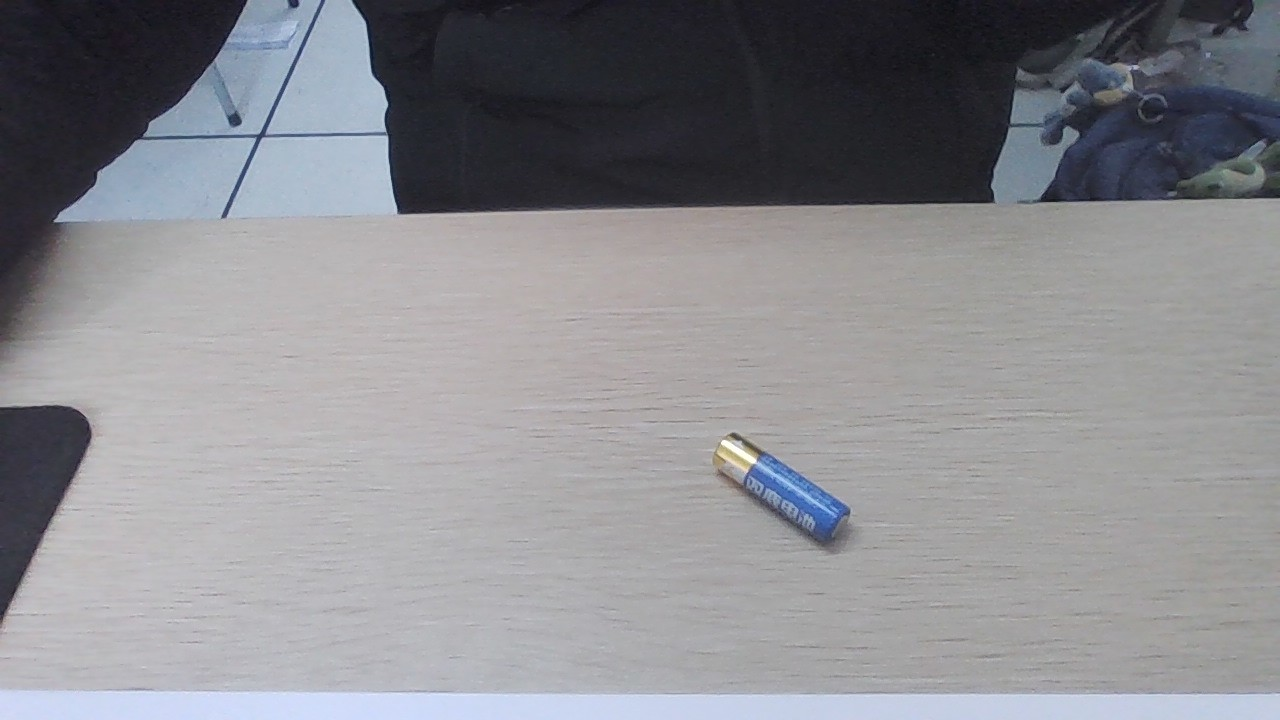YH-battery: (717, 431, 848, 544)
